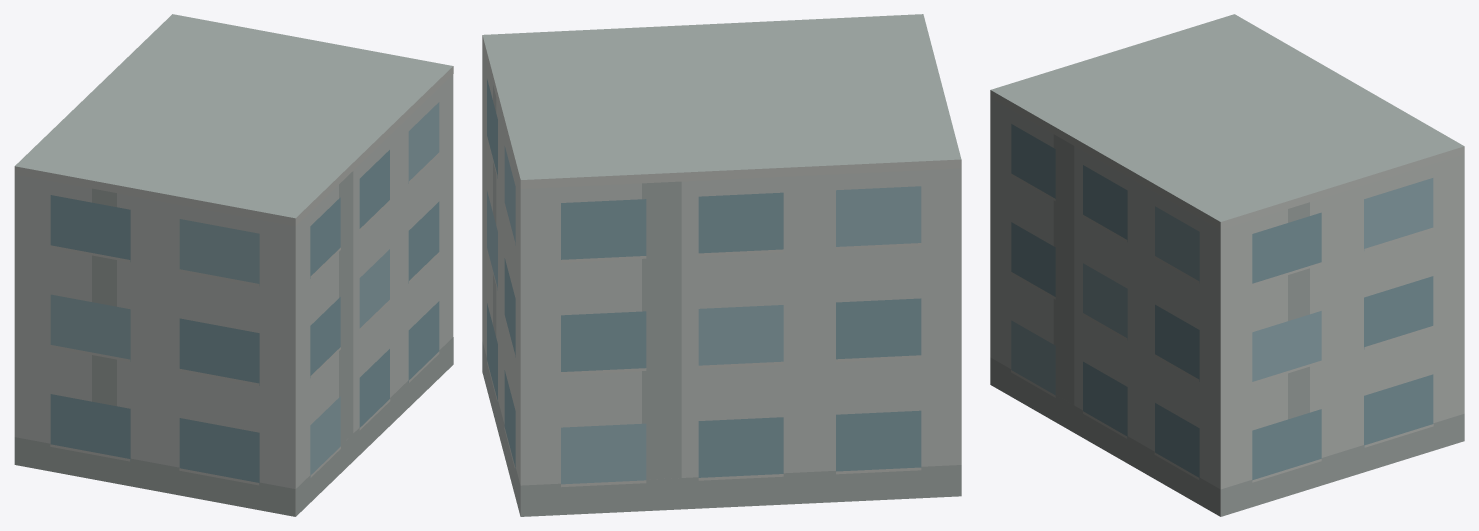
Rendered from residential-b9cc9156-673b-48a6-94a0-c5bf91ee7753.glb.
3 views of the same model, side by side, from view 1: azimuth 30°, elevation 25°; view 2: azimuth 150°, elevation 25°; view 3: azimuth 270°, elevation 25° (orthographic). The views are drawn at different scales.
Parts seen in each view (by area): view 1: residential-b9cc9156-673b-48a6-94a0-c5bf91ee7753.tmp; view 2: residential-b9cc9156-673b-48a6-94a0-c5bf91ee7753.tmp; view 3: residential-b9cc9156-673b-48a6-94a0-c5bf91ee7753.tmp.
Boxes of the visible parts, x1,y1,x2,y2 form: residential-b9cc9156-673b-48a6-94a0-c5bf91ee7753.tmp: (14,14,453,516); residential-b9cc9156-673b-48a6-94a0-c5bf91ee7753.tmp: (482,14,961,516); residential-b9cc9156-673b-48a6-94a0-c5bf91ee7753.tmp: (990,14,1464,516).
Size of the model in its own units: 13.86 by 9.15 by 13.35.
